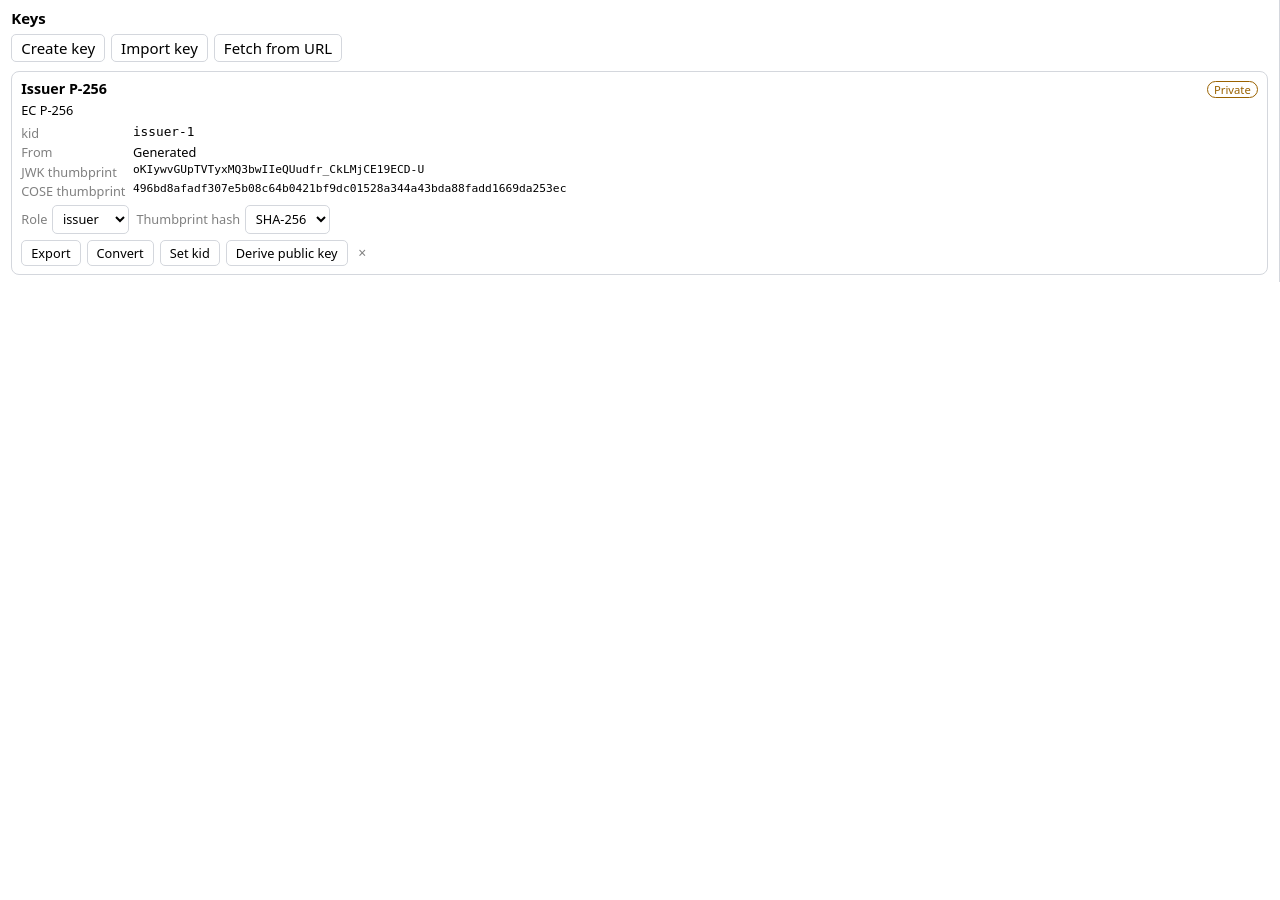
Test case: export › defaults to public and needs an explicit choice for private
Click the button "Export" at (51, 253), box [21,240,81,266]
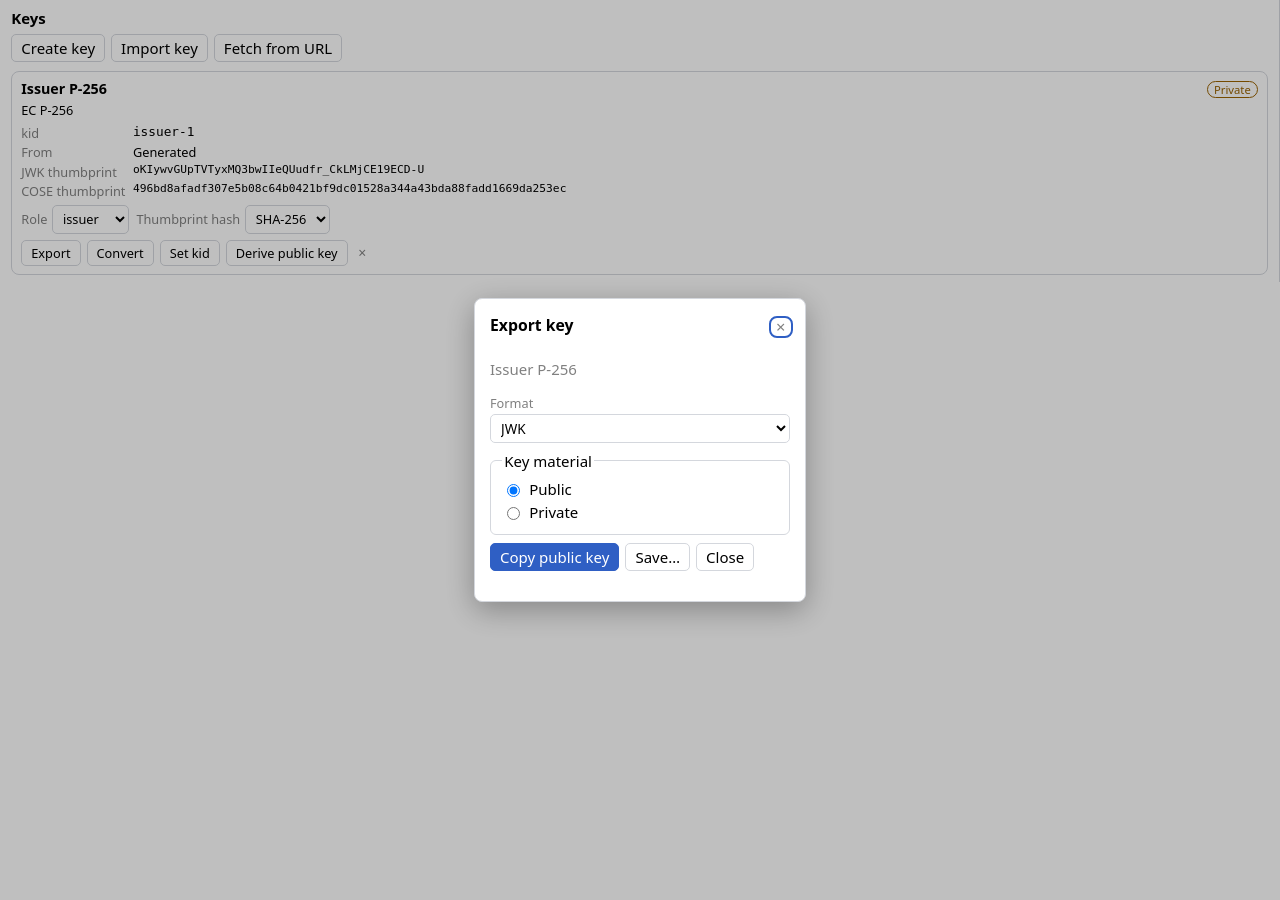
Expected: the radio button labelled "Public" is checked, [507,484,520,497]
Click the button "Copy public key" at (555, 557), box [490,543,619,571]
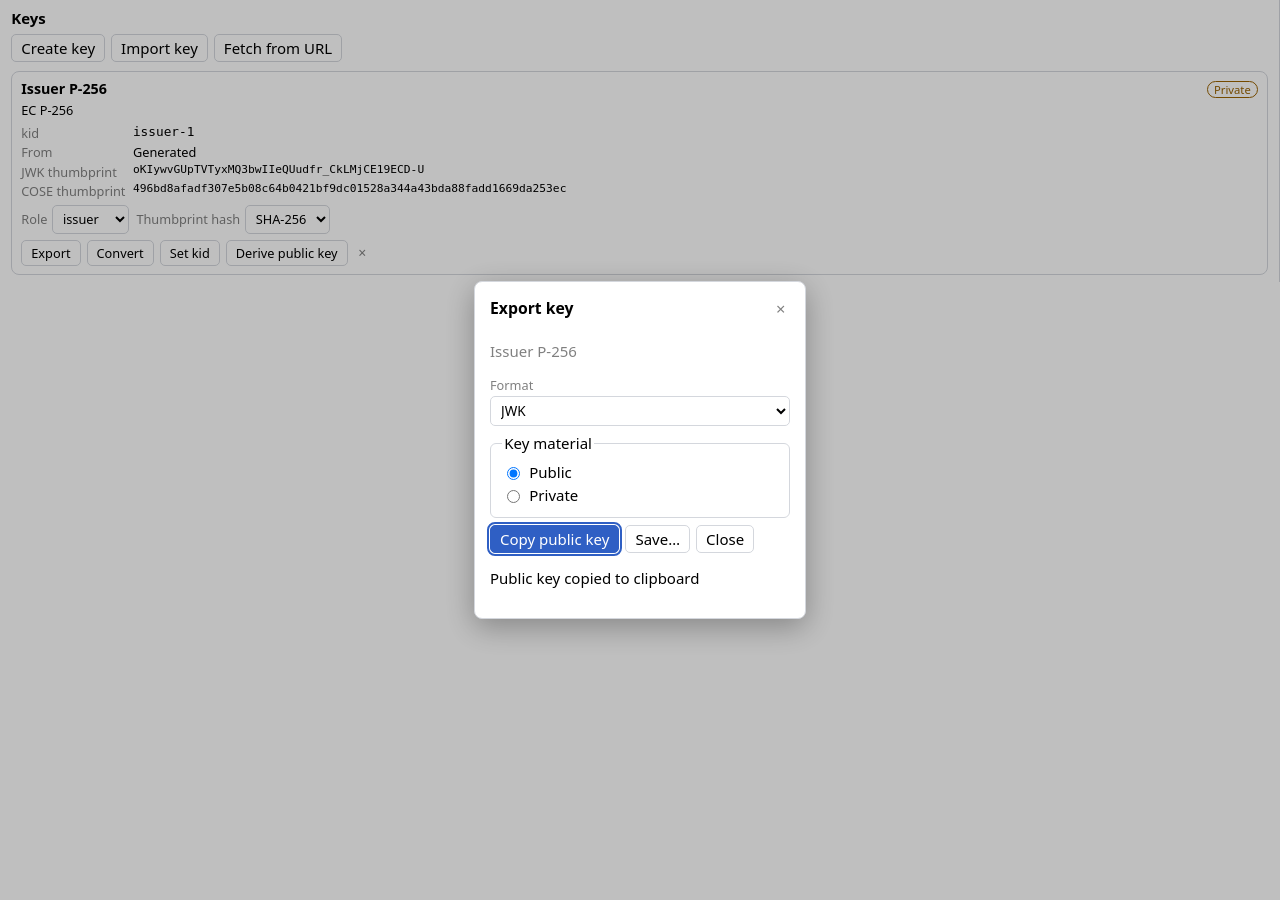
Click the radio button labelled "Private" at (514, 496), box [507,490,520,503]
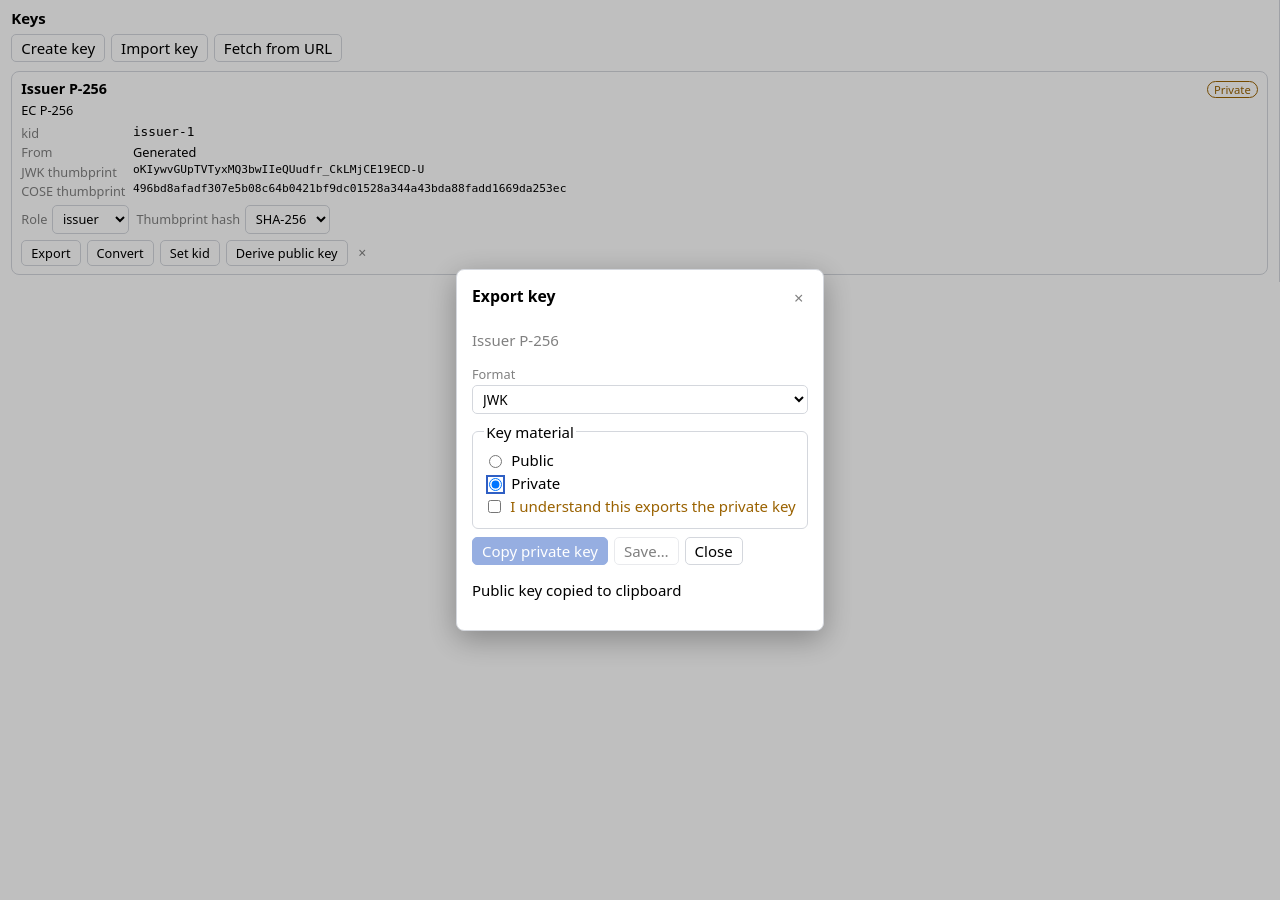
Expected: the button "Copy private key" is disabled, [472,537,608,565]
Expected: the button "Save…" is disabled, [614,537,678,565]
Click the checkbox labelled "I understand this exports the private key" at (495, 506), box [488,500,501,513]
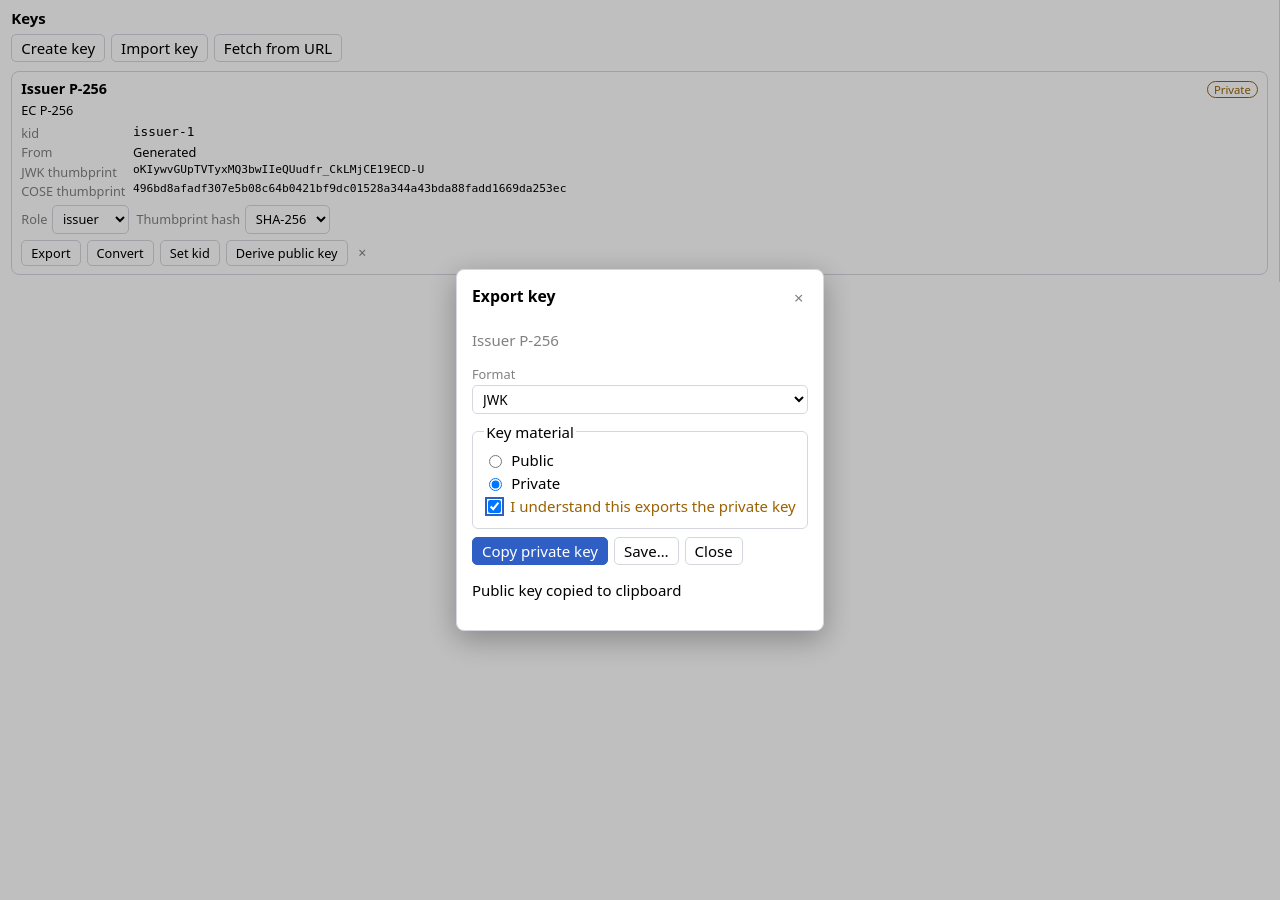
Expected: the button "Copy private key" is enabled
Click the button "Copy private key" at (540, 551), box [472,537,608,565]
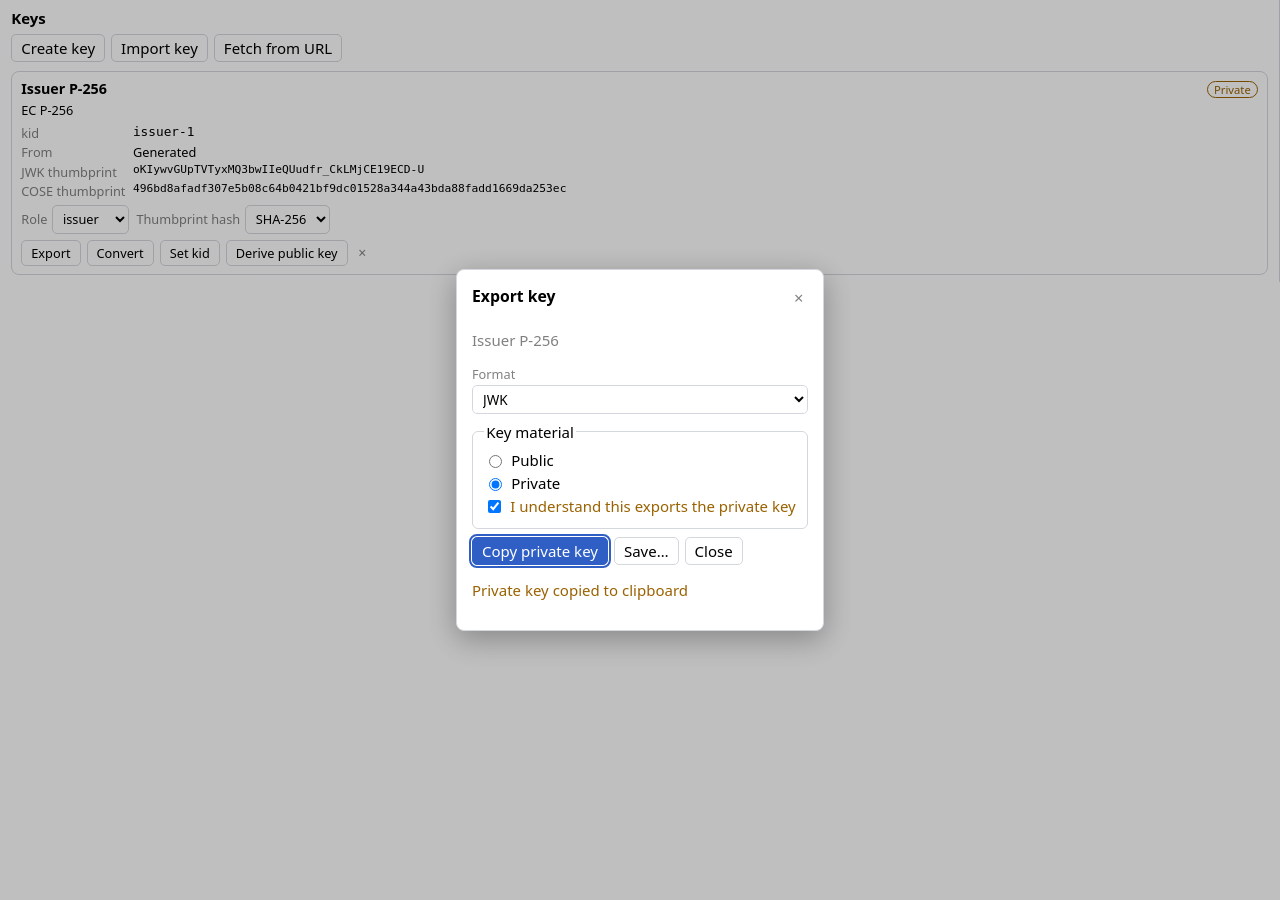
Expected: the message reads "Private key copied to clipboard", [472,580,688,600]
